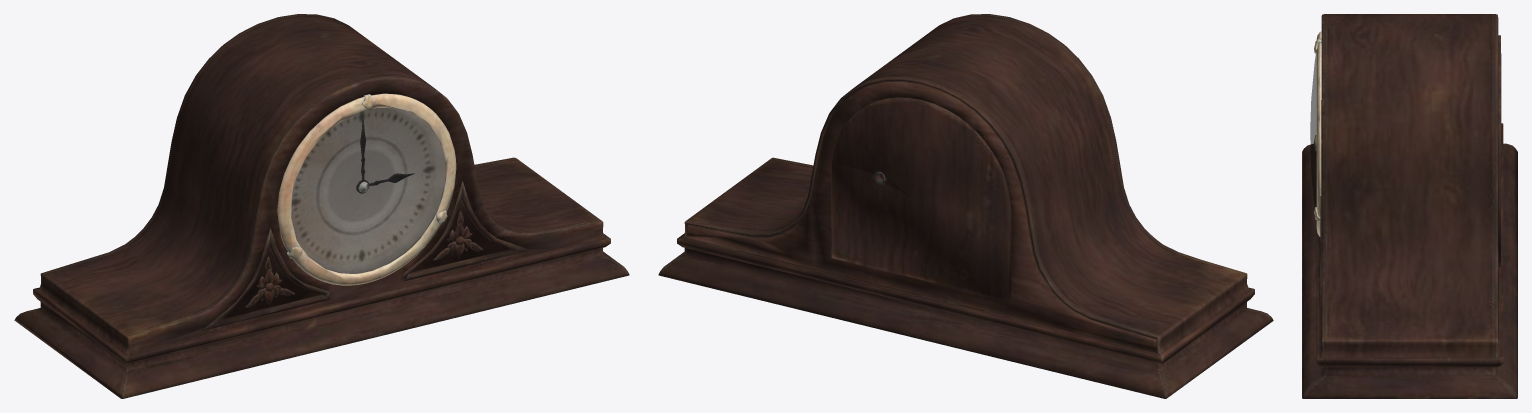
The model's file is mantel_clock_01.glb.
3 views of the same model, side by side, from view 1: azimuth 30°, elevation 25°; view 2: azimuth 150°, elevation 25°; view 3: azimuth 270°, elevation 25° (orthographic).
Parts seen in each view (by area): view 1: mantel_clock_01, mantel_clock_01_glass; view 2: mantel_clock_01; view 3: mantel_clock_01, mantel_clock_01_glass.
Part boxes in pixels (x1,y1,x2,y2): mantel_clock_01: (14,14,629,398); mantel_clock_01_glass: (291,108,445,273); mantel_clock_01: (658,14,1273,398); mantel_clock_01: (1302,14,1517,398); mantel_clock_01_glass: (1310,52,1316,206).
Size of the model in its own units: 0.3423 by 0.1604 by 0.126.
Materials: 2 (2 with a texture image).
